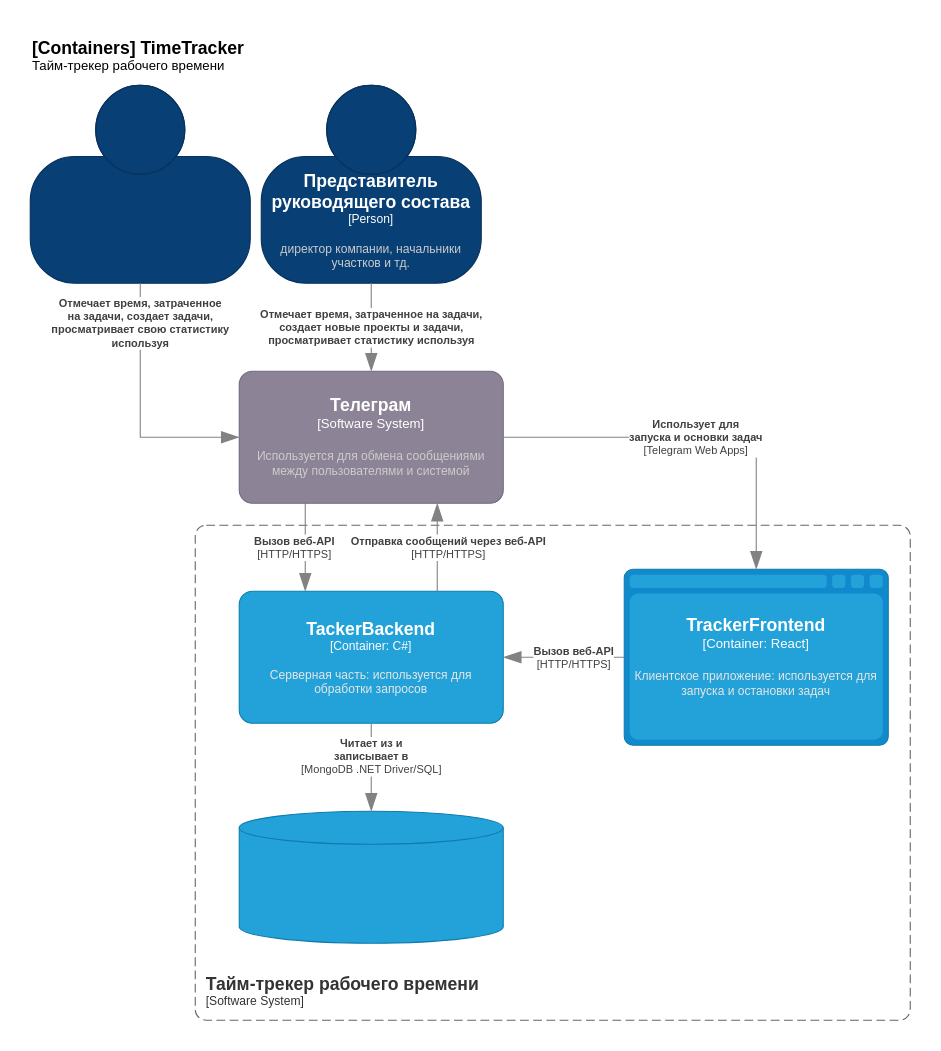
This 941x1051 diagram has some shape labels left out. The shapes that lost their labels are listed below. From the top down, each one's centre as x and y in pixels, then its label:
point (139, 183): Сотрудник компании [Person] рядовой сотрудник, выезжает на объекты
point (370, 876): TrackerMongoDB [Container: MongoDB] База данных учета рабочего времени
